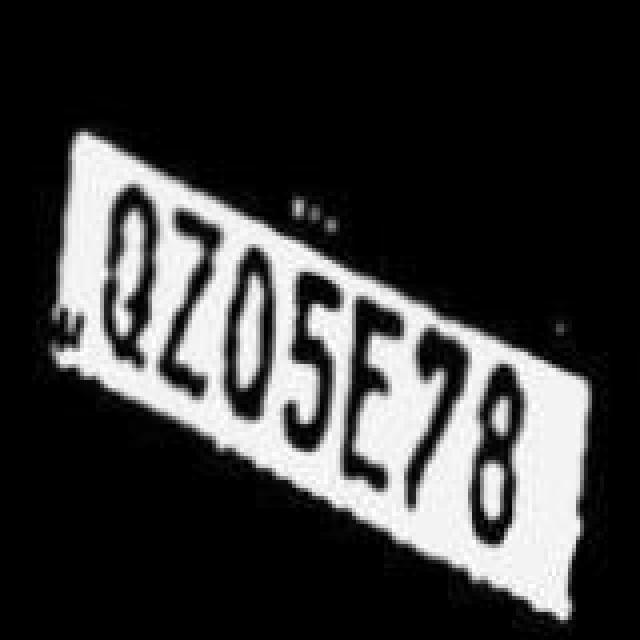5: (276, 272, 348, 480)
7: (402, 330, 470, 558)
8: (470, 360, 538, 572)
E: (342, 294, 410, 506)
O: (216, 246, 284, 442)
Q: (102, 172, 158, 376)
Z: (154, 212, 218, 404)
